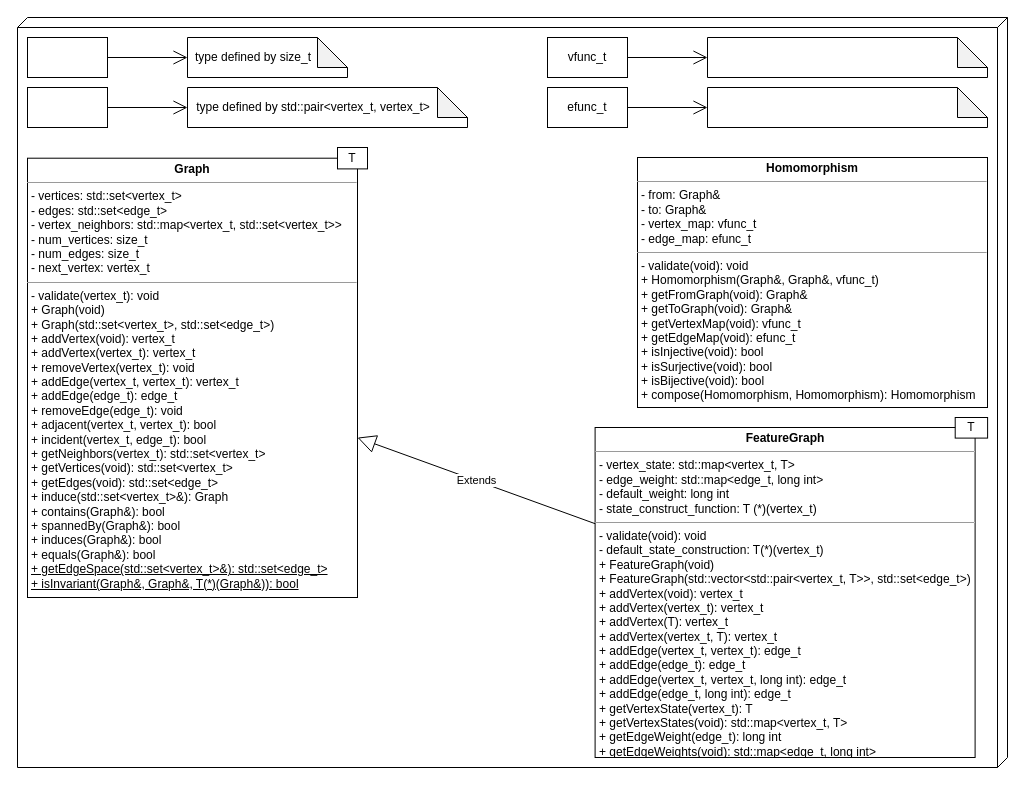
Image size: 1025x785. Some labels were removed from this diagram. Each missing label, with the box of its shape:
edge_t: (26, 86, 108, 128)
type defined by std::map<edge_t, edge_t>: (706, 86, 988, 128)
type defined by std::map<vertex_t, vertex_t>: (706, 36, 988, 78)
vertex_t: (26, 36, 108, 78)
